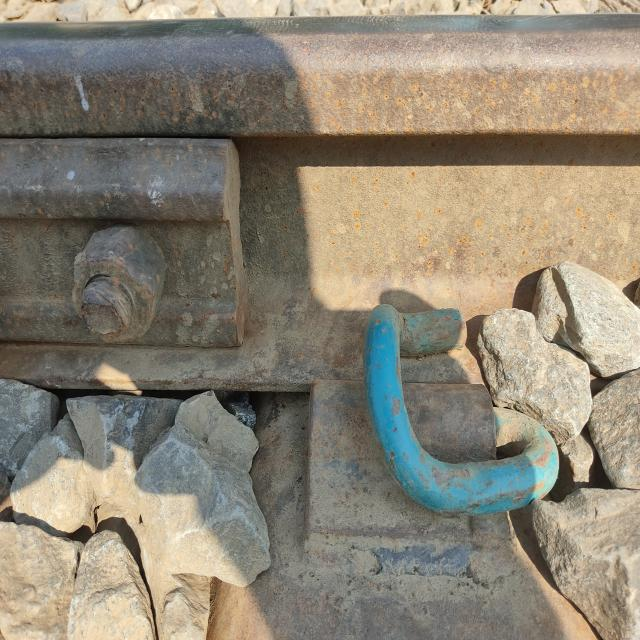non-defective: (338, 186, 584, 512)
